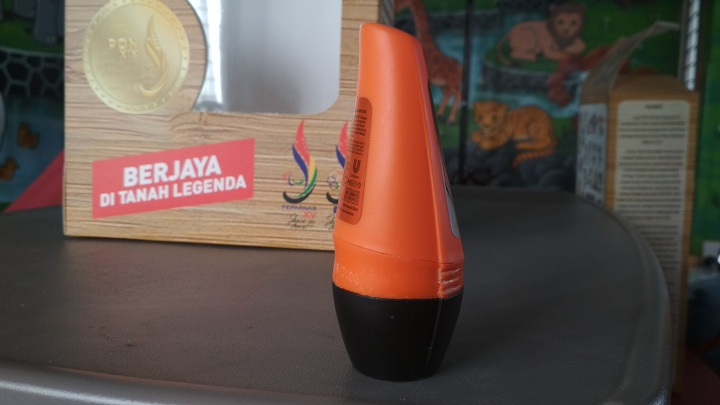rexona: (326, 21, 465, 378)
